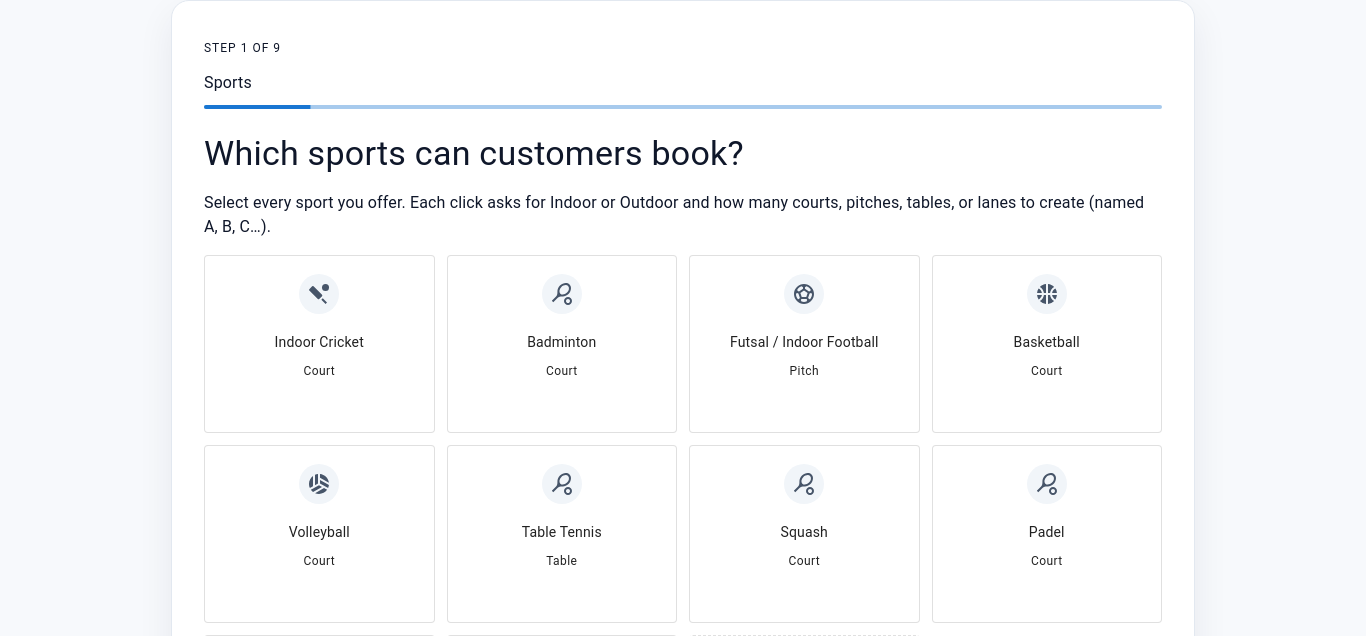
Test case: Phase 4 - Business Onboarding Page › requires Indoor or Outdoor before saving a sport
Click the text "Badminton" at (562, 342), box [527,334,596,350]
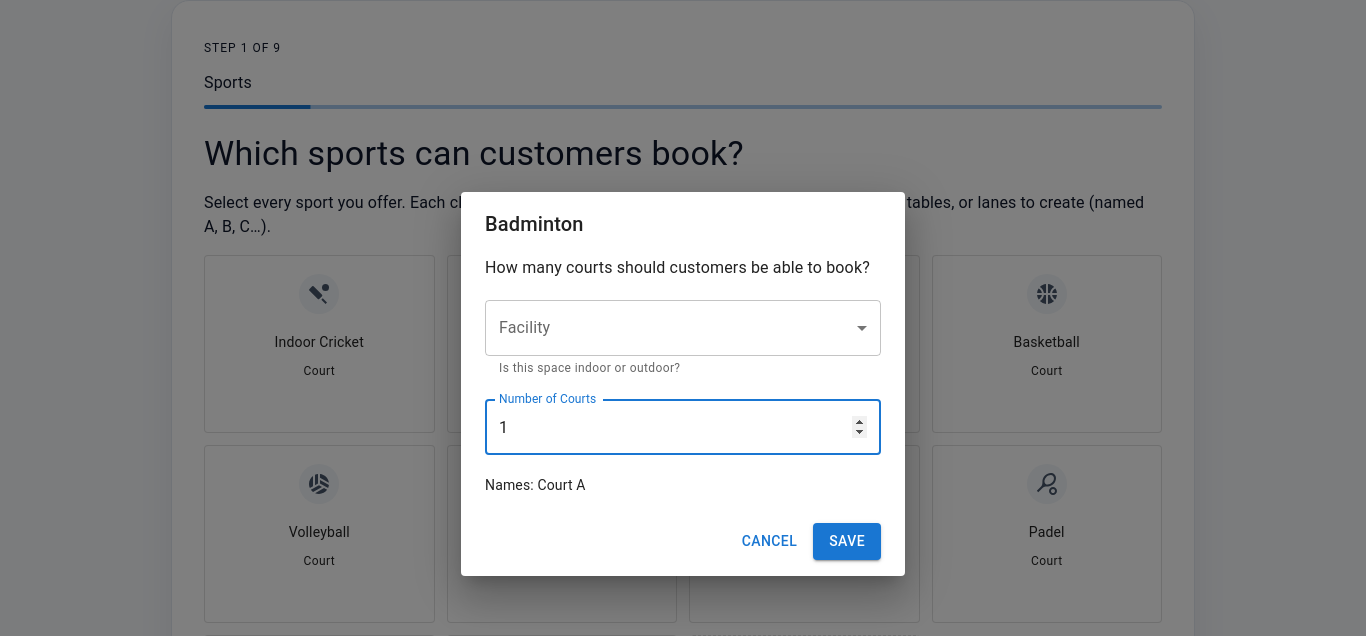
Check: the dialog is shown, box [461,192,905,576]
Click the button "Save" at (847, 541), box [813,523,881,560]
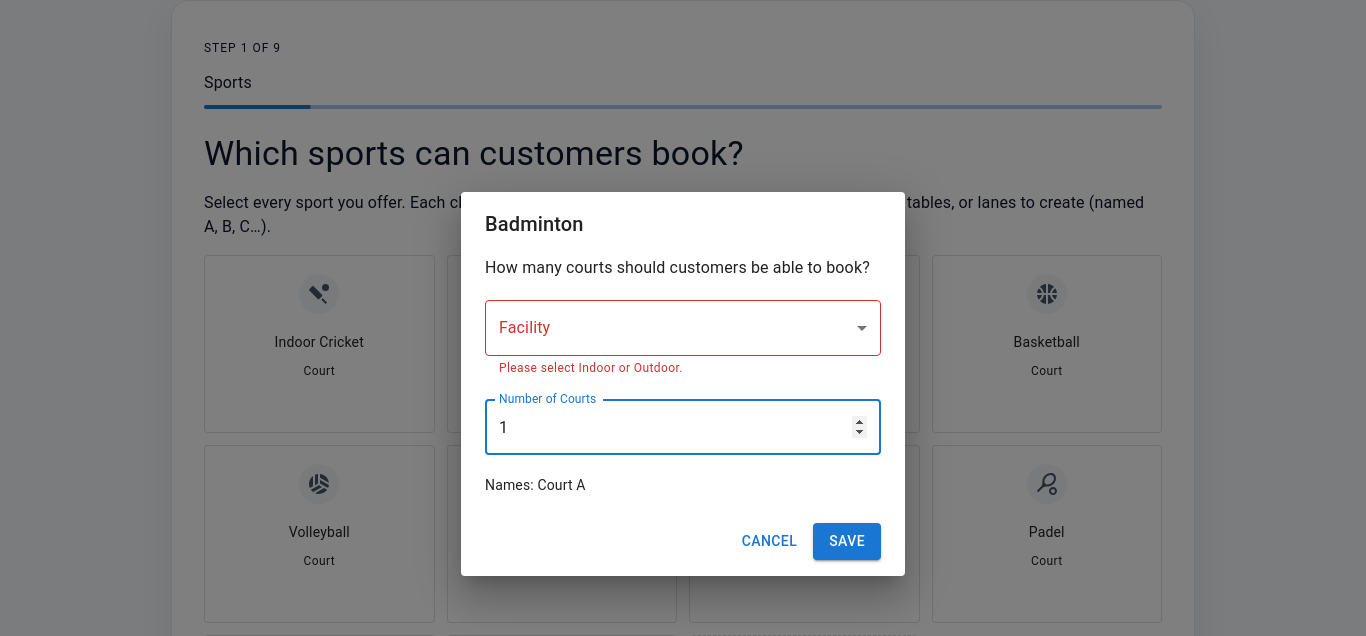
Check: the dialog is shown, box [461,192,905,576]
Check: the text "Please select Indoor or Outdoor." is shown, box [499,361,683,375]
